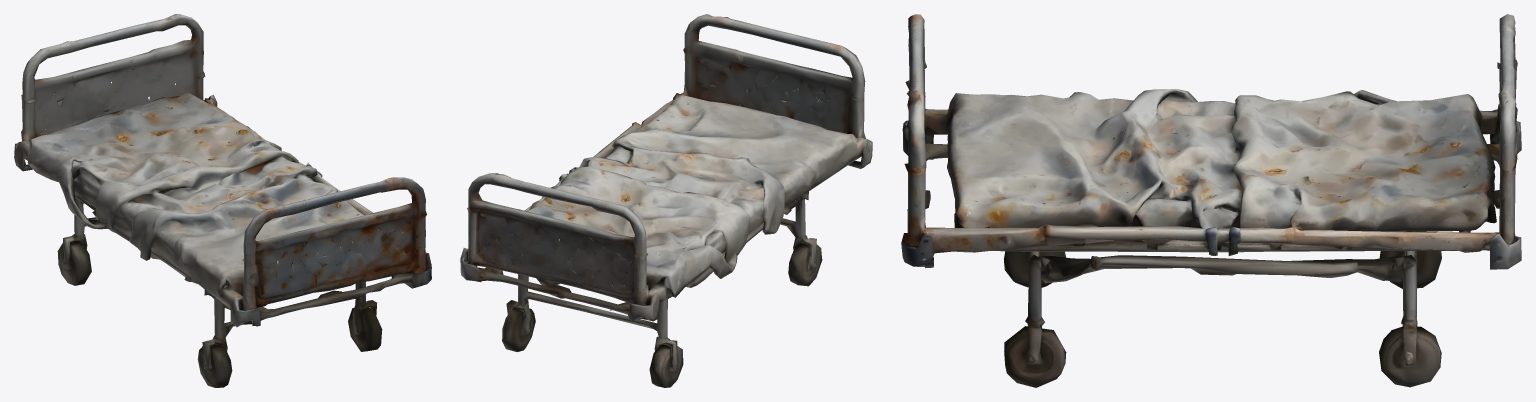
File: tripo_convert_a47584de-71c7-4c42-a211-3313e4c038cf.fbx
3 views of the same model, side by side, from view 1: azimuth 30°, elevation 25°; view 2: azimuth 150°, elevation 25°; view 3: azimuth 270°, elevation 25° (orthographic). The views are drawn at different scales.
Parts seen in each view (by area): view 1: tripo_node_a47584de; view 2: tripo_node_a47584de; view 3: tripo_node_a47584de.
Boxes of the visible parts, <box> form: tripo_node_a47584de: <box>14,14,431,387</box>; tripo_node_a47584de: <box>460,14,872,387</box>; tripo_node_a47584de: <box>901,14,1521,387</box>.
Size of the model in its own units: 0.5098 by 0.4951 by 1.
1 material, 1 textured.
